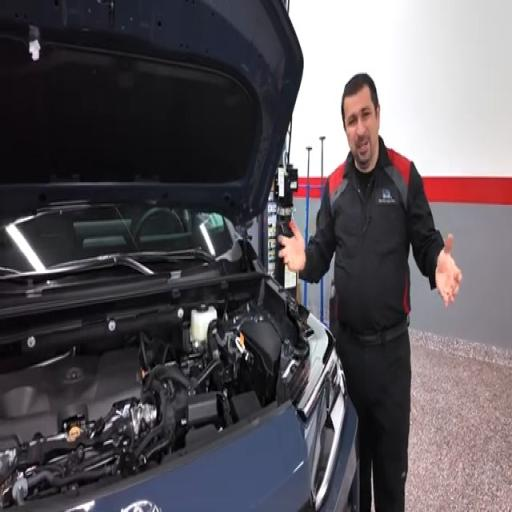bumper: (320, 399, 359, 511)
emblem: (121, 500, 162, 511)
headlight: (302, 349, 346, 510)
hood: (0, 0, 303, 221)
windshield: (0, 205, 233, 273)
